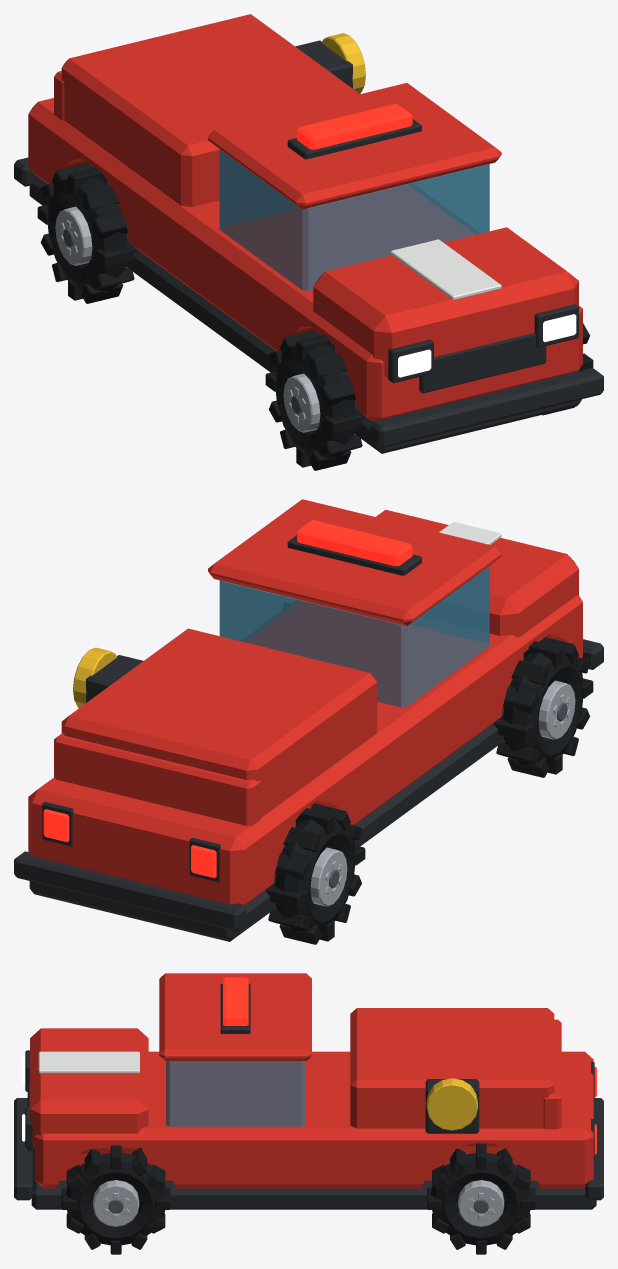
The model's file is FirePickup.glb.
3 views of the same model, one above another, from view 1: azimuth 30°, elevation 25°; view 2: azimuth 150°, elevation 25°; view 3: azimuth 270°, elevation 25° (orthographic). The views are drawn at different scales.
Parts seen in each view (by area): view 1: BodyPaint_Mesh, Trim_Mesh, Glass_Mesh, Wheel_RL_Tire, Wheel_FL_Tire, Decal_Mesh, FireLightbarGlow_Red, Wheel_FL_Hub, Wheel_RL_Hub, Equipment_Mesh, HeadlightGlow_R, HeadlightGlow_L; view 2: BodyPaint_Mesh, Glass_Mesh, Trim_Mesh, Wheel_RL_Tire, Wheel_FL_Tire, FireLightbarGlow_Red, Wheel_RL_Hub, Wheel_FL_Hub, Equipment_Mesh, Decal_Mesh, TailLightGlow_R, TailLightGlow_L; view 3: BodyPaint_Mesh, Trim_Mesh, Glass_Mesh, Wheel_FR_Tire, Wheel_RR_Tire, Decal_Mesh, Equipment_Mesh, Wheel_FR_Hub, Wheel_RR_Hub, FireLightbarGlow_Red.
Part boxes in pixels (x1=…): BodyPaint_Mesh: x1=28, y1=14, x2=582, y2=421; Trim_Mesh: x1=14, y1=40, x2=603, y2=453; Glass_Mesh: x1=219, y1=149, x2=489, y2=290; Wheel_RL_Tire: x1=37, y1=162, x2=137, y2=303; Wheel_FL_Tire: x1=265, y1=330, x2=365, y2=470; Decal_Mesh: x1=390, y1=239, x2=501, y2=300; FireLightbarGlow_Red: x1=297, y1=103, x2=412, y2=149; Wheel_FL_Hub: x1=283, y1=373, x2=320, y2=432; Wheel_RL_Hub: x1=55, y1=206, x2=92, y2=265; Equipment_Mesh: x1=322, y1=33, x2=365, y2=93; HeadlightGlow_R: x1=543, y1=314, x2=576, y2=341; HeadlightGlow_L: x1=398, y1=349, x2=431, y2=377; BodyPaint_Mesh: x1=28, y1=499, x2=582, y2=905; Glass_Mesh: x1=219, y1=566, x2=489, y2=707; Trim_Mesh: x1=14, y1=535, x2=603, y2=941; Wheel_RL_Tire: x1=265, y1=803, x2=365, y2=944; Wheel_FL_Tire: x1=493, y1=637, x2=593, y2=777; FireLightbarGlow_Red: x1=297, y1=520, x2=412, y2=566; Wheel_RL_Hub: x1=310, y1=847, x2=347, y2=906; Wheel_FL_Hub: x1=538, y1=680, x2=575, y2=739; Equipment_Mesh: x1=73, y1=647, x2=116, y2=707; Decal_Mesh: x1=439, y1=521, x2=501, y2=544; TailLightGlow_R: x1=43, y1=809, x2=69, y2=842; TailLightGlow_L: x1=191, y1=845, x2=216, y2=878; BodyPaint_Mesh: x1=30, y1=973, x2=593, y2=1188; Trim_Mesh: x1=14, y1=983, x2=603, y2=1209; Glass_Mesh: x1=166, y1=1061, x2=305, y2=1126; Wheel_FR_Tire: x1=61, y1=1145, x2=170, y2=1254; Wheel_RR_Tire: x1=427, y1=1143, x2=535, y2=1254; Decal_Mesh: x1=38, y1=1051, x2=139, y2=1073; Equipment_Mesh: x1=426, y1=1078, x2=477, y2=1130; Wheel_FR_Hub: x1=93, y1=1180, x2=139, y2=1226; Wheel_RR_Hub: x1=458, y1=1180, x2=504, y2=1226; FireLightbarGlow_Red: x1=223, y1=977, x2=248, y2=1025.
Size of what is drawn, in the model's own units: 2.4 by 2.22 by 5.72.
